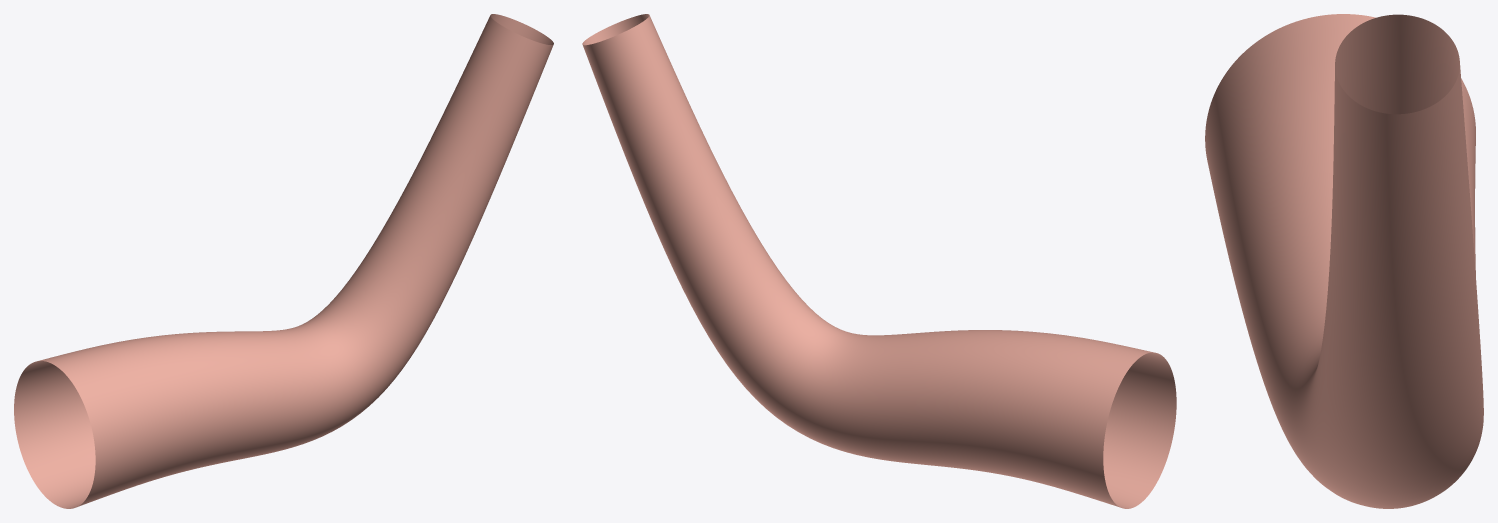
Rendered from Trompa de Falopio Derecha2.fbx.
3 views of the same model, side by side, from view 1: azimuth 30°, elevation 25°; view 2: azimuth 150°, elevation 25°; view 3: azimuth 270°, elevation 25° (orthographic). The views are drawn at different scales.
Visible parts, largest first — view 1: BezierCurve_001; view 2: BezierCurve_001; view 3: BezierCurve_001.
Part boxes in pixels (left/top/right/bottom): BezierCurve_001: left=14, top=14, right=553, bottom=508; BezierCurve_001: left=582, top=14, right=1176, bottom=508; BezierCurve_001: left=1205, top=14, right=1483, bottom=508.
Size of the model in its own units: 7.8 by 5.27 by 2.05.
